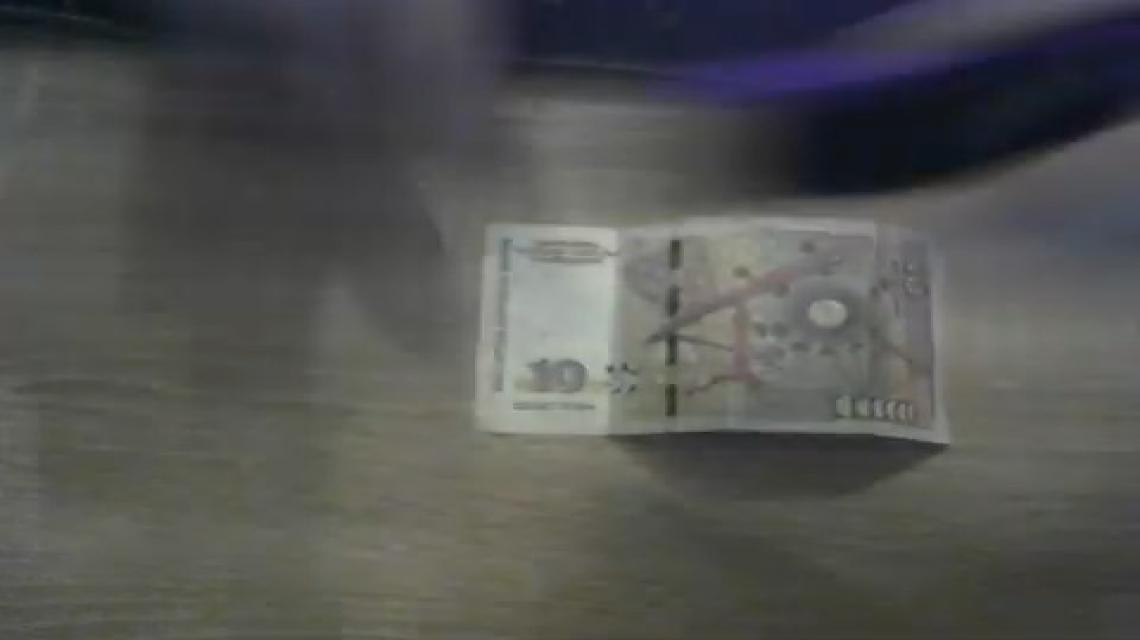10leva: (470, 217, 950, 455)
